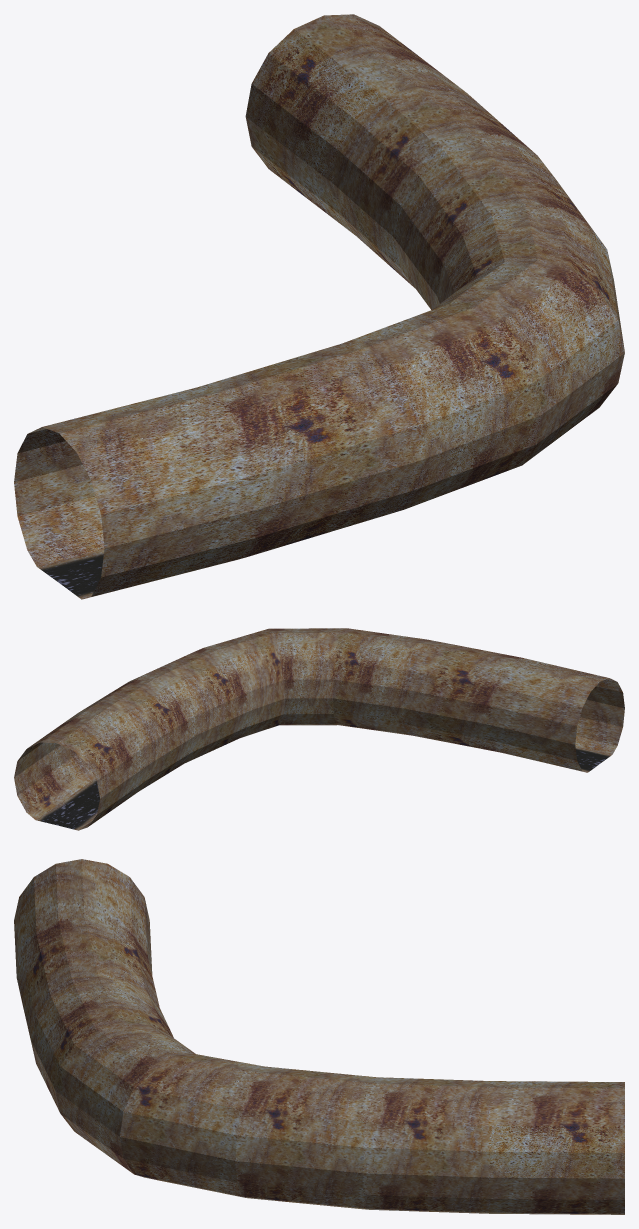
The model's file is can02.fbx.
3 views of the same model, one above another, from view 1: azimuth 30°, elevation 25°; view 2: azimuth 150°, elevation 25°; view 3: azimuth 270°, elevation 25° (orthographic). The views are drawn at different scales.
Parts seen in each view (by area): view 1: pPipe1; view 2: pPipe1; view 3: pPipe1.
Part boxes in pixels (x1,y1,x2,y2): pPipe1: (14,14,624,599); pPipe1: (14,628,624,830); pPipe1: (14,859,624,1214).
Size of the model in its own units: 13.49 by 2.74 by 13.5.
